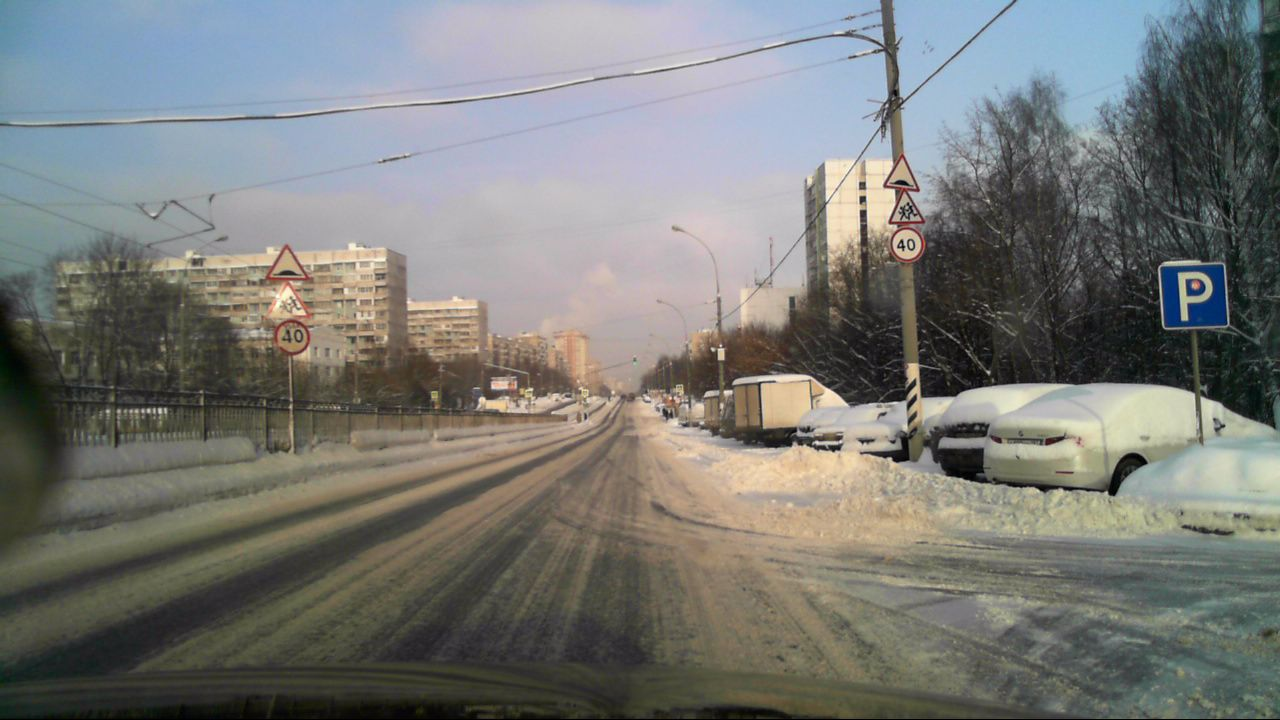speed_warning_40: (273, 320, 311, 355)
